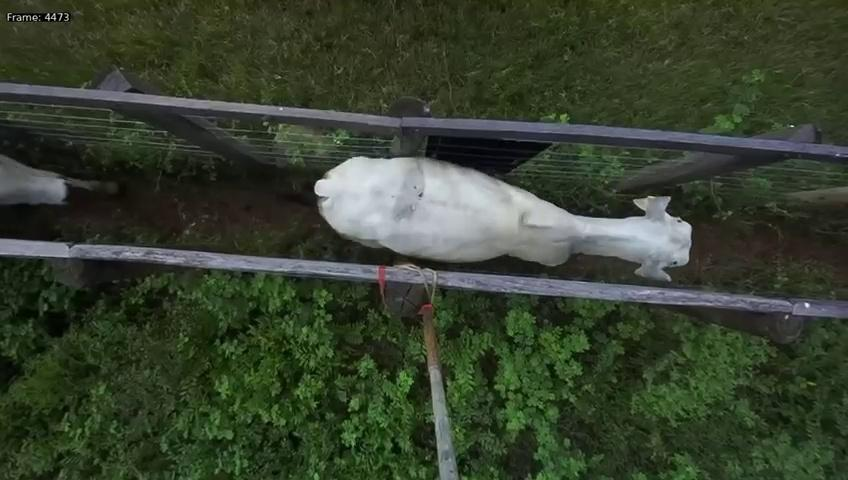cattle: (307, 143, 701, 285)
